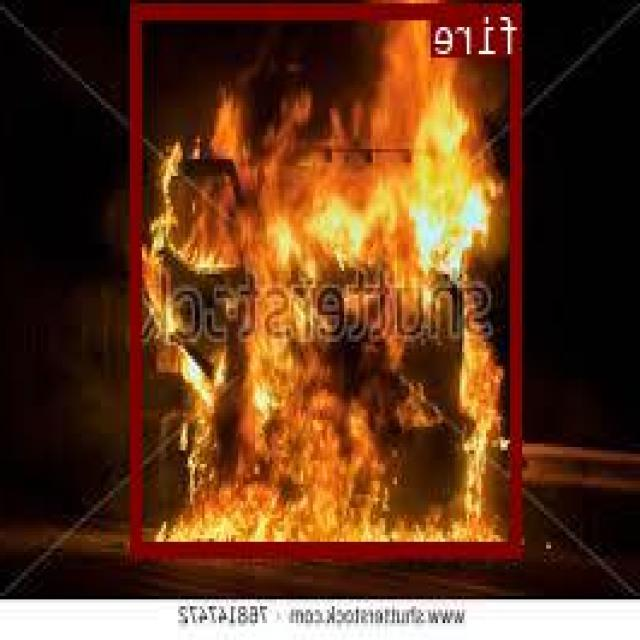fire: (134, 2, 523, 553)
